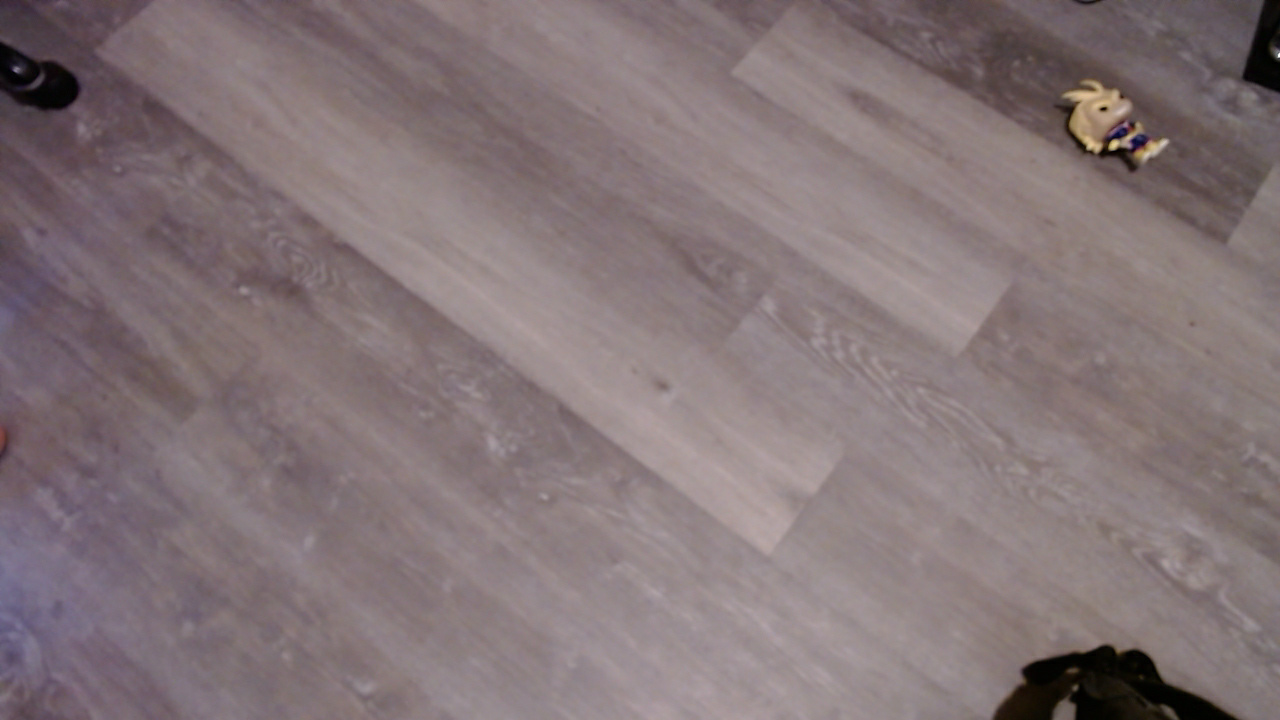all_might: (1063, 75, 1181, 187)
